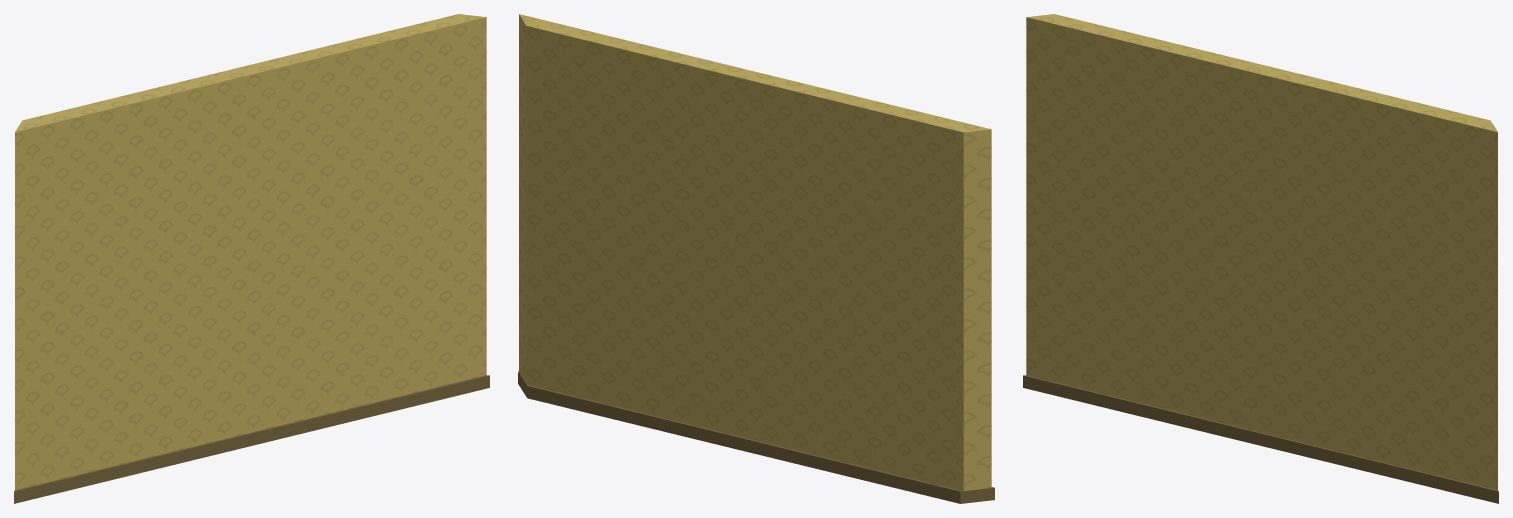
Rendered from BackRoomsWall01Corner01.FBX.
3 views of the same model, side by side, from view 1: azimuth 30°, elevation 25°; view 2: azimuth 150°, elevation 25°; view 3: azimuth 330°, elevation 25° (orthographic).
Visible parts, largest first — view 1: BackRoomsWall01Corner01; view 2: BackRoomsWall01Corner01; view 3: BackRoomsWall01Corner01.
Boxes of the visible parts, x1,y1,x2,y2 form: BackRoomsWall01Corner01: (14, 14, 489, 503); BackRoomsWall01Corner01: (518, 14, 994, 503); BackRoomsWall01Corner01: (1023, 14, 1498, 503).
Bounding box in the file's own units: 404 × 18.54 × 300.
